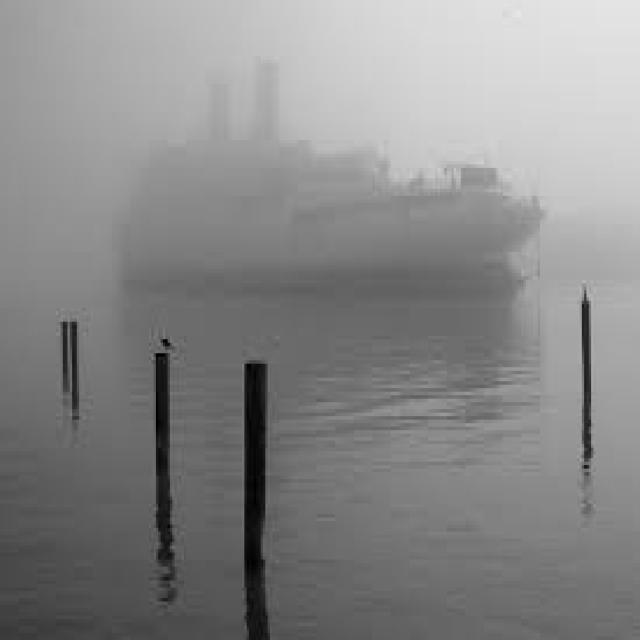passenger ship: (114, 70, 532, 282)
